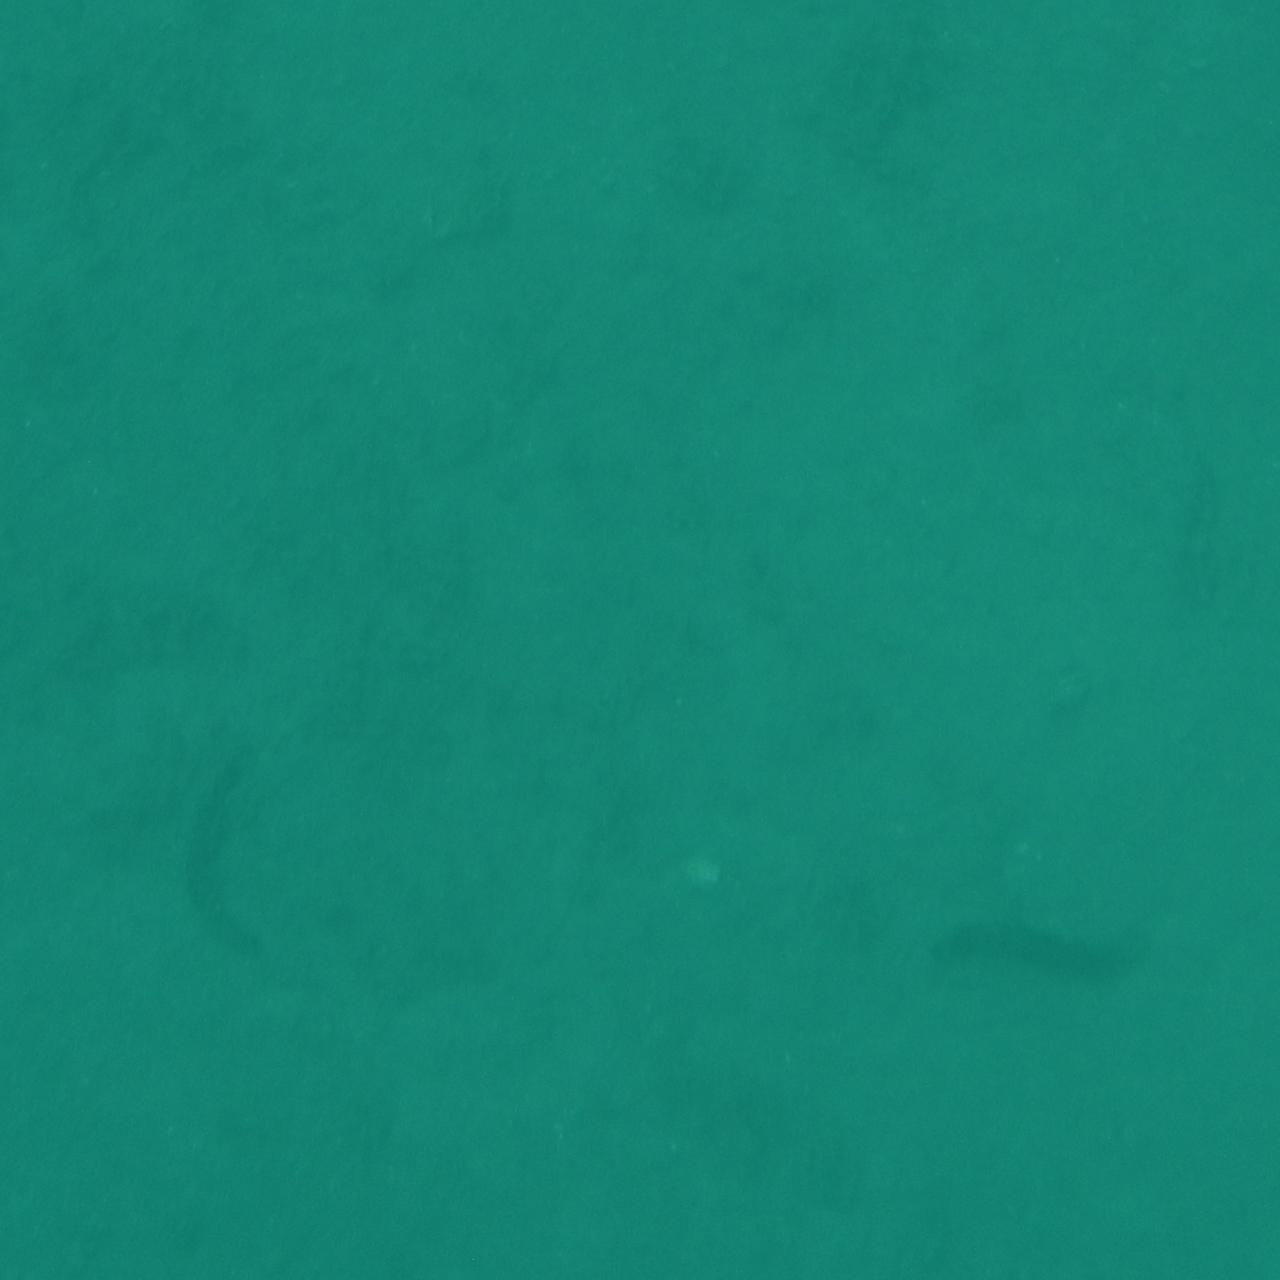Holothuria tubulosa: (915, 890, 1165, 1022), (182, 708, 300, 983)
